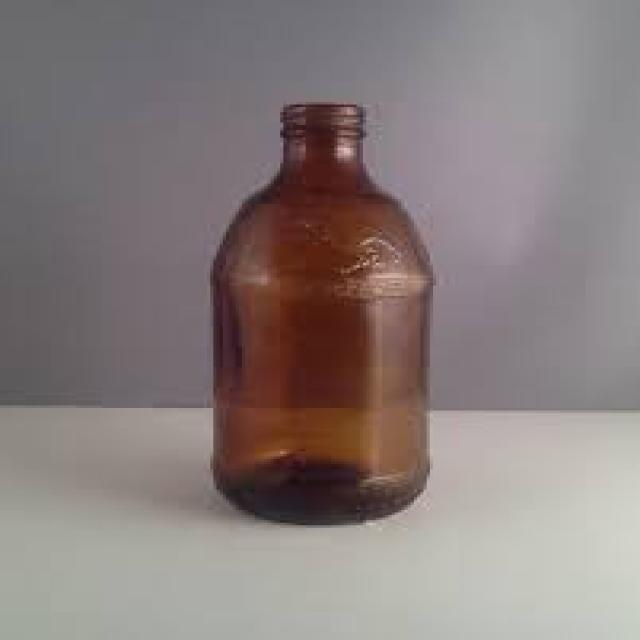glass: (210, 102, 427, 523)
